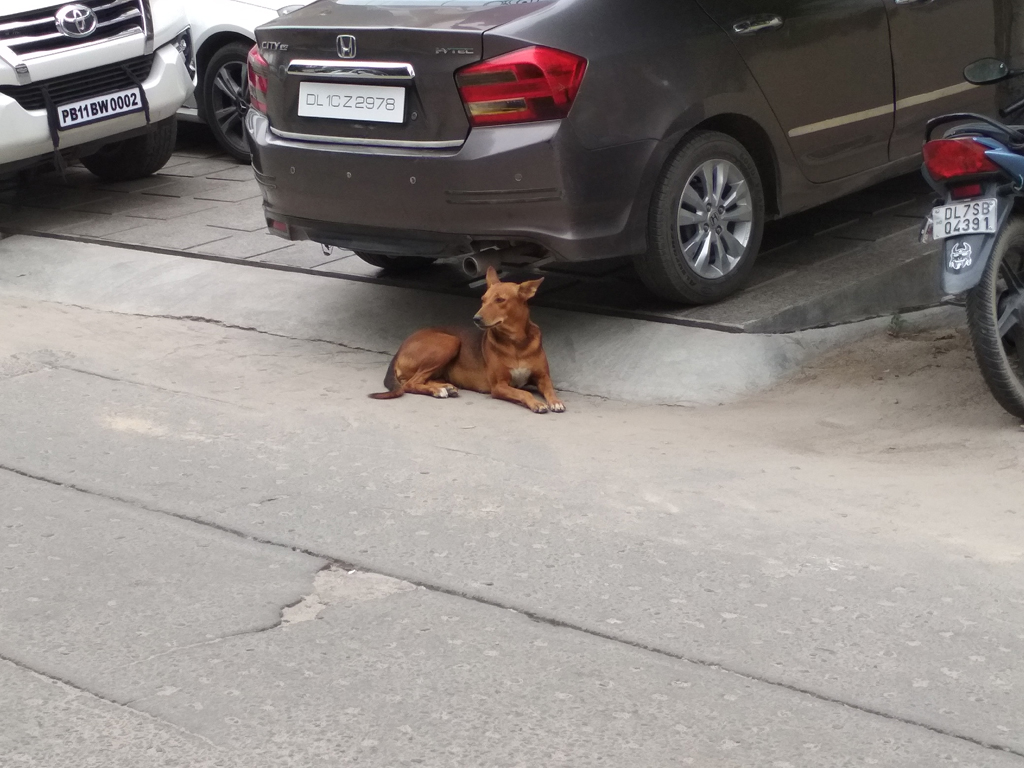dog: (368, 266, 567, 415)
